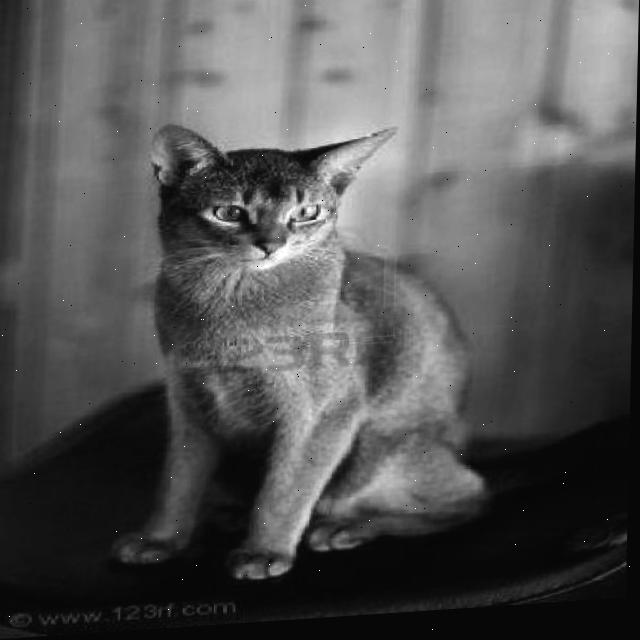Cat: (109, 99, 506, 590)
